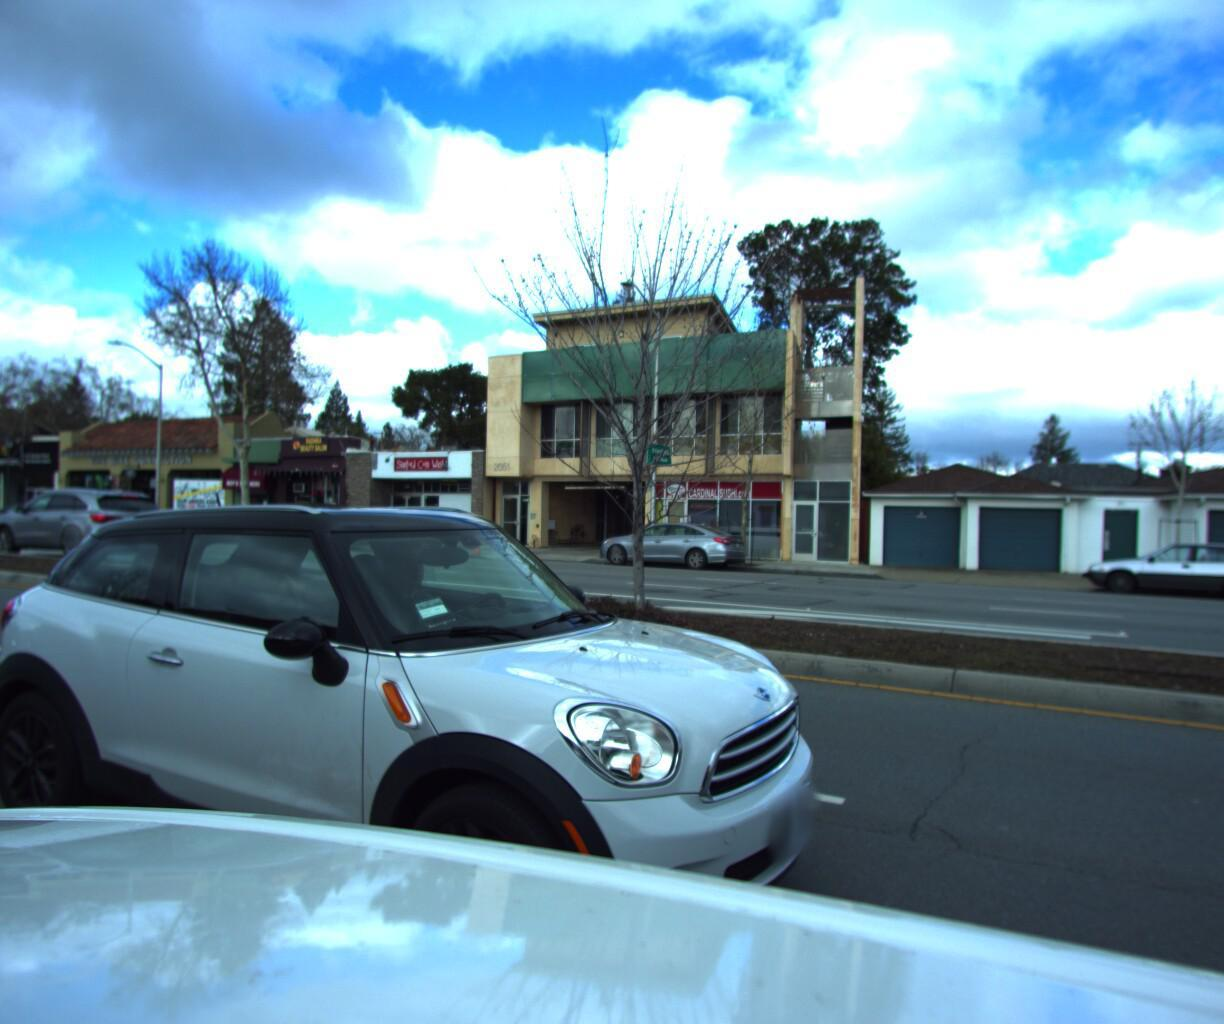car: (0, 472, 864, 1024), (0, 483, 180, 561), (1070, 531, 1224, 601), (582, 513, 754, 569), (47, 467, 161, 533), (239, 495, 361, 544), (142, 503, 248, 537)
